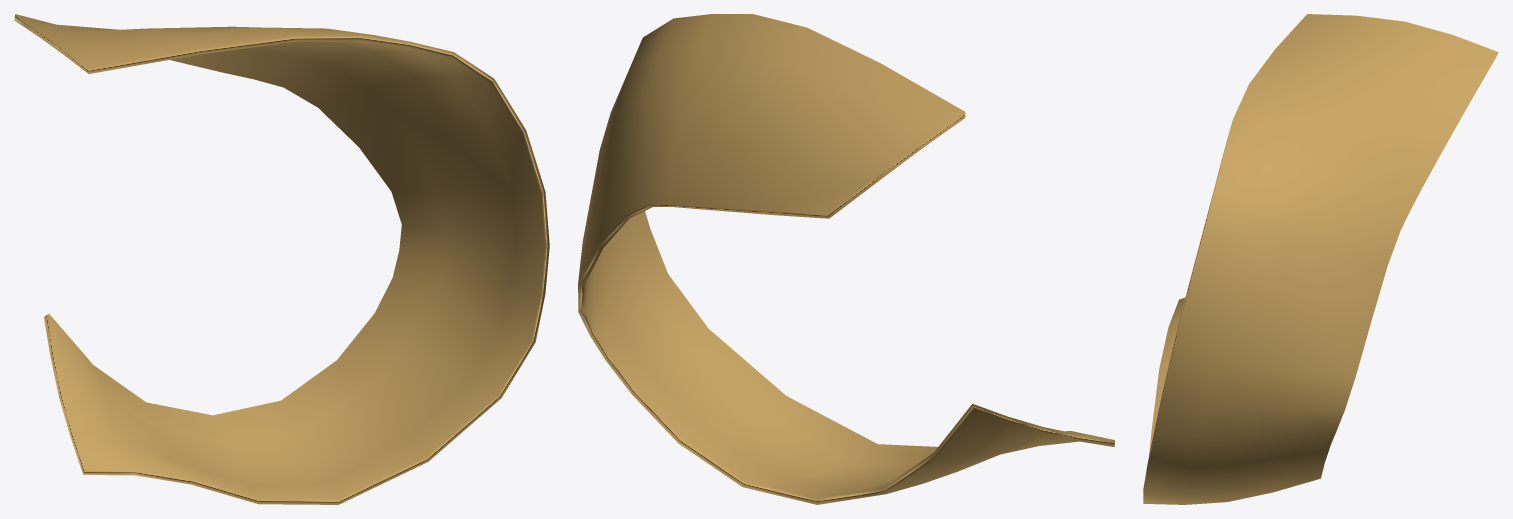
The picture shows the model from 3 angles, left to right: view 1: azimuth 30°, elevation 25°; view 2: azimuth 150°, elevation 25°; view 3: azimuth 270°, elevation 25°; orthographic projection. The views are drawn at different scales.
Parts seen in each view (by area): view 1: 左侧桡骨环状韧带; view 2: 左侧桡骨环状韧带; view 3: 左侧桡骨环状韧带.
Part boxes in pixels (x1,y1,x2,y2): 左侧桡骨环状韧带: [14, 14, 549, 504]; 左侧桡骨环状韧带: [578, 14, 1114, 504]; 左侧桡骨环状韧带: [1143, 14, 1498, 504].
Bounding box in the file's own units: 0.0363 × 0.0325 × 0.0257.
